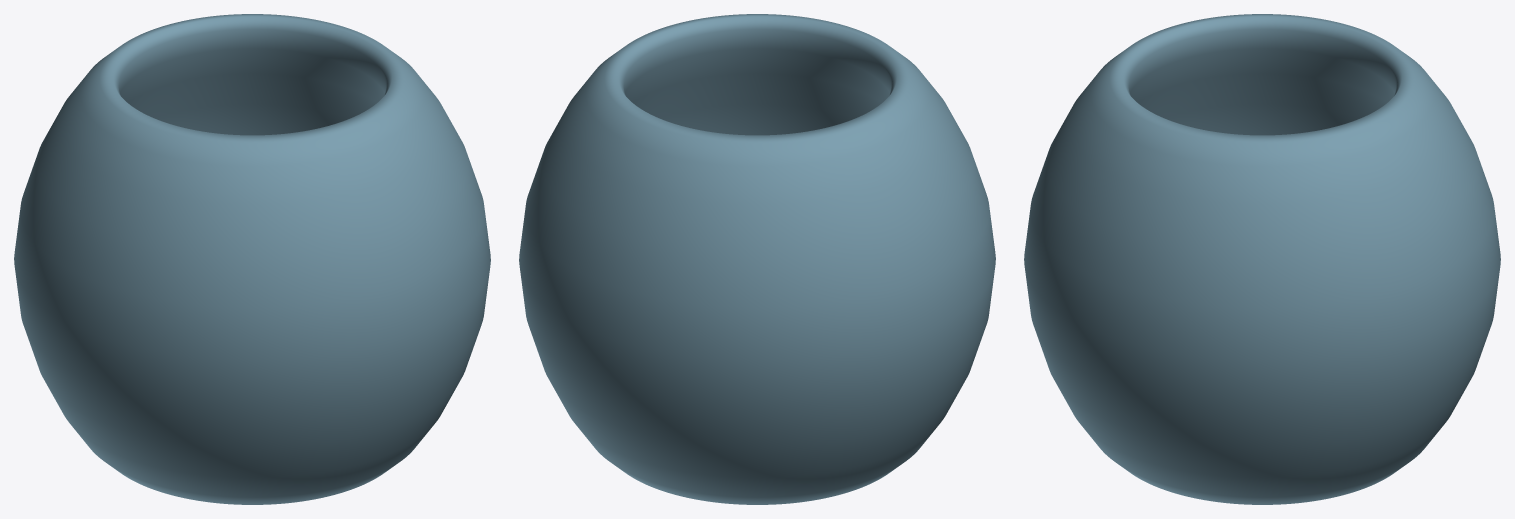
File: SM_Vase.fbx
The picture shows the model from 3 angles, left to right: view 1: azimuth 30°, elevation 25°; view 2: azimuth 150°, elevation 25°; view 3: azimuth 270°, elevation 25°; orthographic projection.
Visible parts, largest first — view 1: Circle.005; view 2: Circle.005; view 3: Circle.005.
Part boxes in pixels (<box>): Circle.005: <box>14,14,490,504</box>; Circle.005: <box>519,14,995,504</box>; Circle.005: <box>1024,14,1500,504</box>.
Size of the model in its own units: 15.55 by 13.18 by 15.55.
